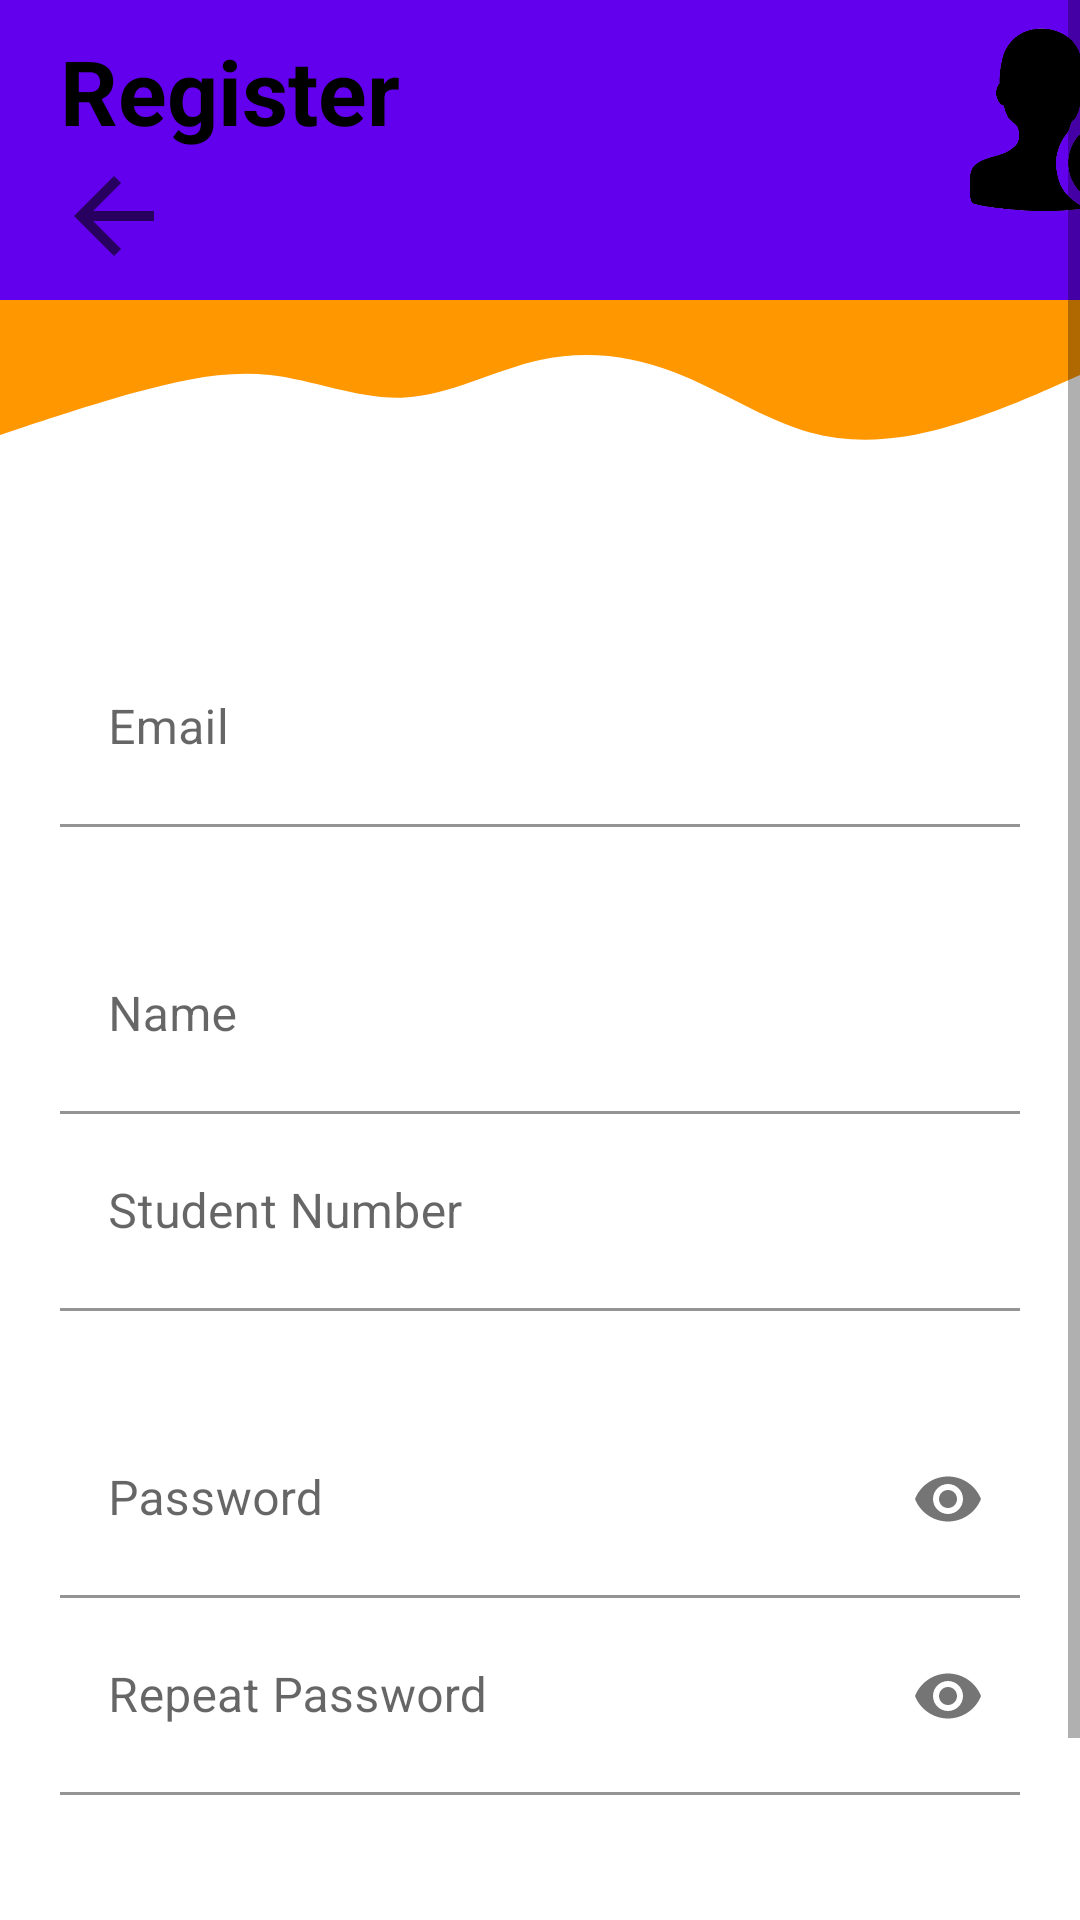

Named icons in this screenshot (1080*1920) and their bounding boxes, BBox(x1, y1, x2, y2):
arrow back: BBox(74, 176, 154, 256)
